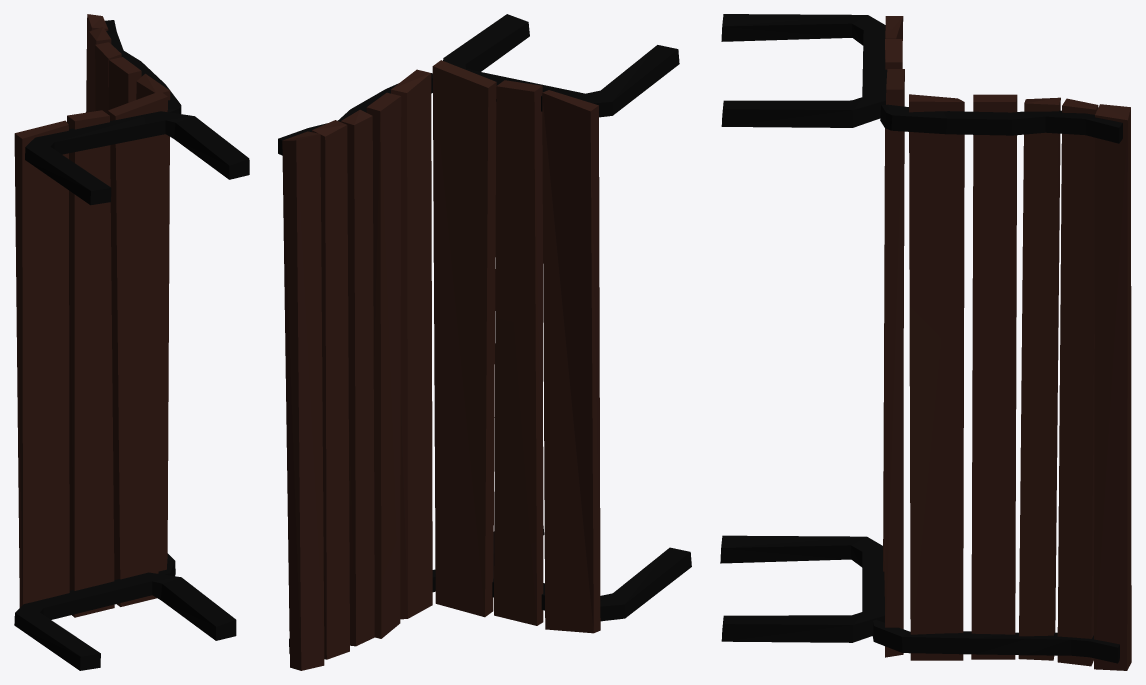
The picture shows the model from 3 angles, left to right: view 1: azimuth 30°, elevation 25°; view 2: azimuth 150°, elevation 25°; view 3: azimuth 270°, elevation 25°; orthographic projection. The views are drawn at different scales.
Parts seen in each view (by area): view 1: Bench.028_model; view 2: Bench.028_model; view 3: Bench.028_model.
Part boxes in pixels (box(x1,y1,x2,y2)): Bench.028_model: box(14, 14, 249, 670); Bench.028_model: box(278, 14, 691, 670); Bench.028_model: box(720, 14, 1131, 670).
Bounding box in the file's own units: 37.96 × 85.93 × 56.31.
